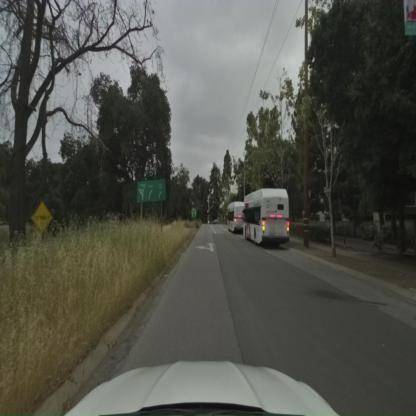bus: (242, 188, 290, 247), (228, 202, 246, 234)
